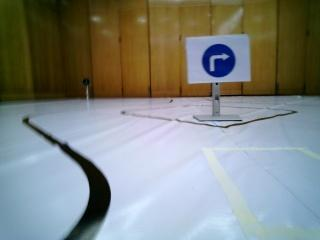right: (190, 38, 249, 81)
